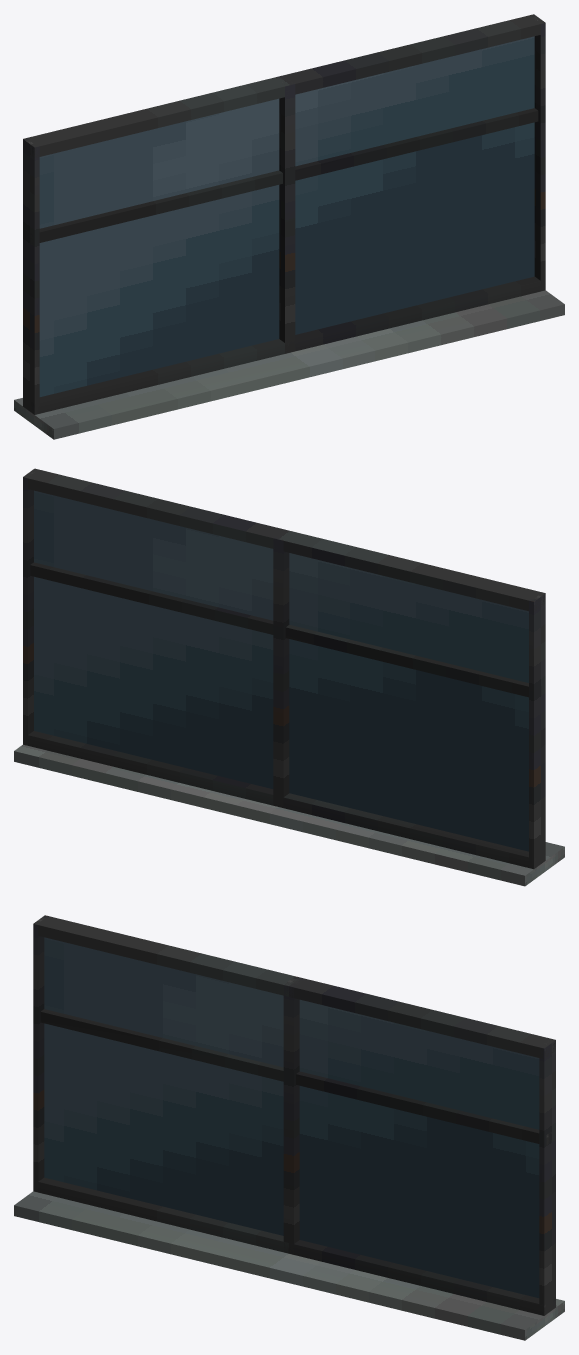
Rendered from window_strip.glb.
3 renders of one model, top to bottom at view 1: azimuth 30°, elevation 25°; view 2: azimuth 150°, elevation 25°; view 3: azimuth 330°, elevation 25°, orthographic.
Parts seen in each view (by area): view 1: window_strip; view 2: window_strip; view 3: window_strip.
Boxes of the visible parts, x1,y1,x2,y2 form: window_strip: [14, 14, 564, 439]; window_strip: [14, 468, 564, 886]; window_strip: [14, 915, 564, 1340].
Bounding box in the file's own units: 2 × 1.04 × 0.27.
Materials: 1 (1 with a texture image).
